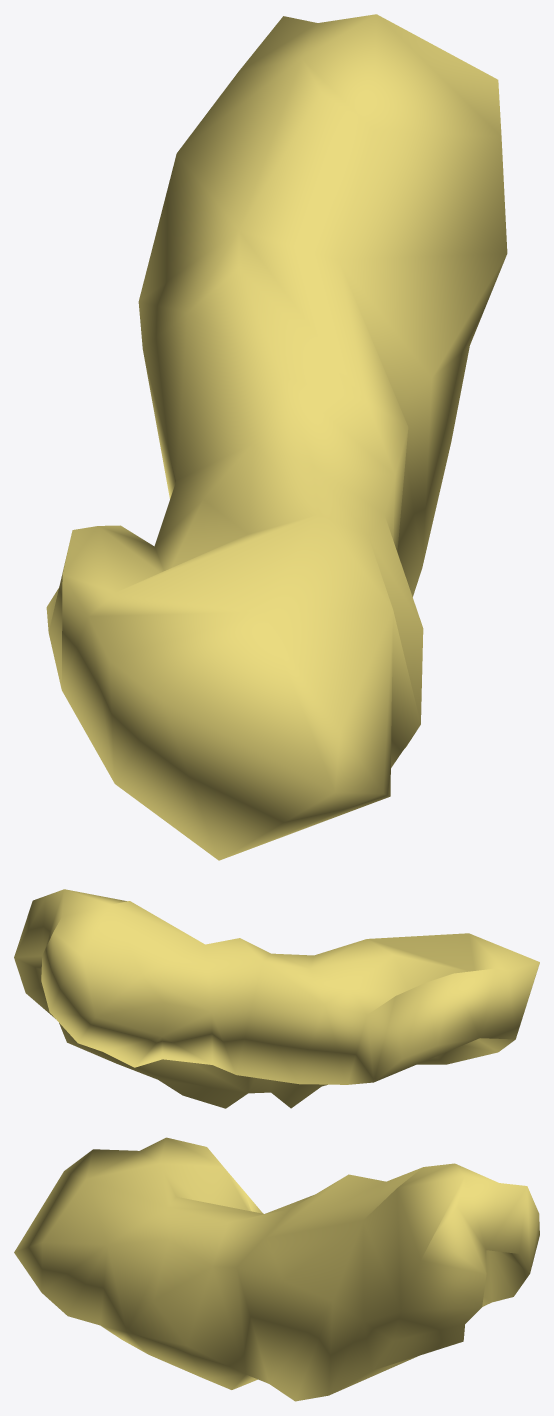
The model's file is transverse-temporal-gyri-r.glb.
3 renders of one model, top to bottom at view 1: azimuth 30°, elevation 25°; view 2: azimuth 150°, elevation 25°; view 3: azimuth 270°, elevation 25°, orthographic. The views are drawn at different scales.
Parts seen in each view (by area): view 1: Transverse temporal gyri.r; view 2: Transverse temporal gyri.r; view 3: Transverse temporal gyri.r.
Boxes of the visible parts, left/top/right/bottom form: Transverse temporal gyri.r: left=46, top=14, right=507, bottom=860; Transverse temporal gyri.r: left=14, top=889, right=539, bottom=1108; Transverse temporal gyri.r: left=14, top=1137, right=539, bottom=1401.
Bounding box in the file's own units: 0.0213 × 0.0144 × 0.0254.
